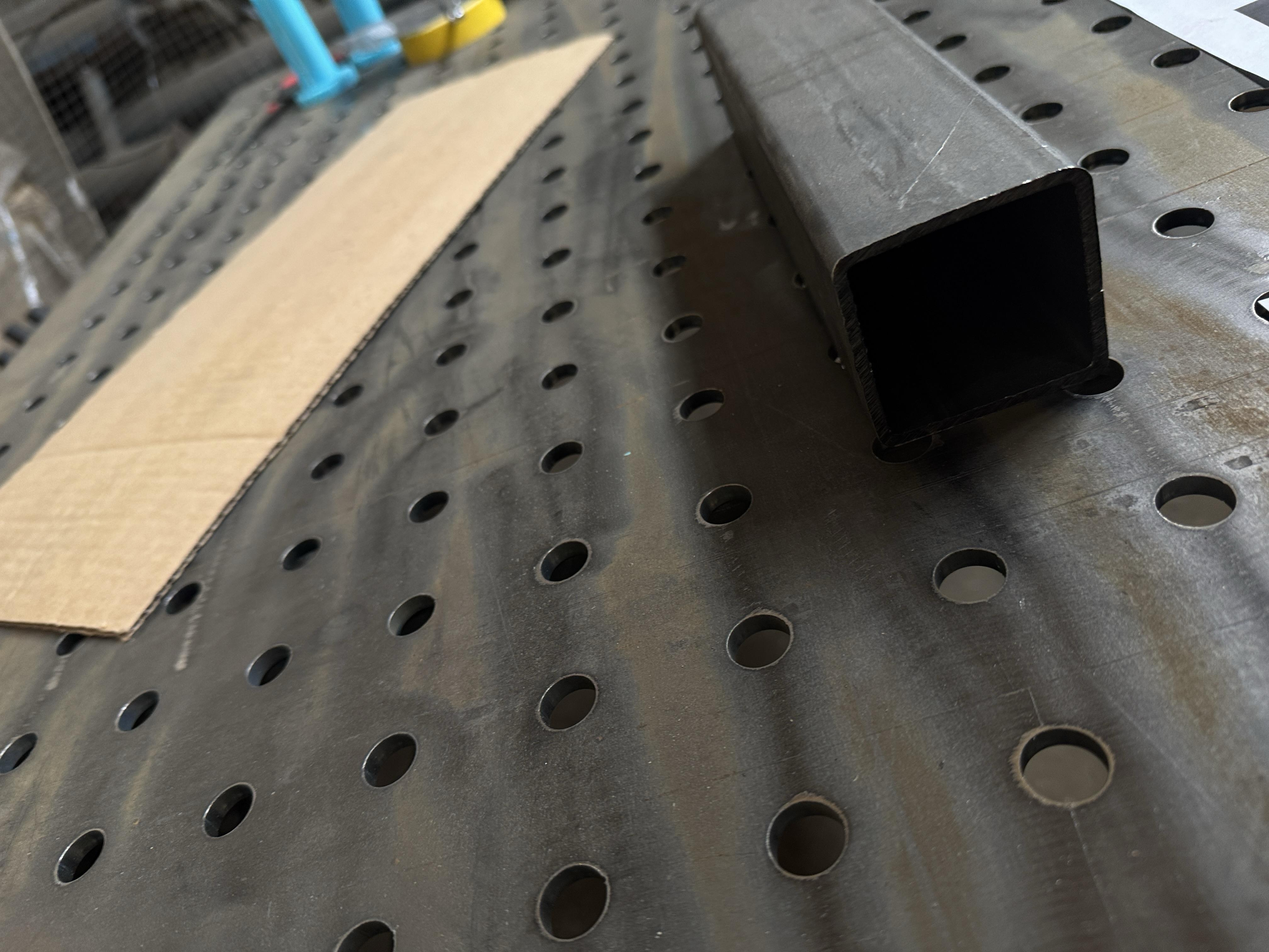detail: (695, 0, 1110, 456)
